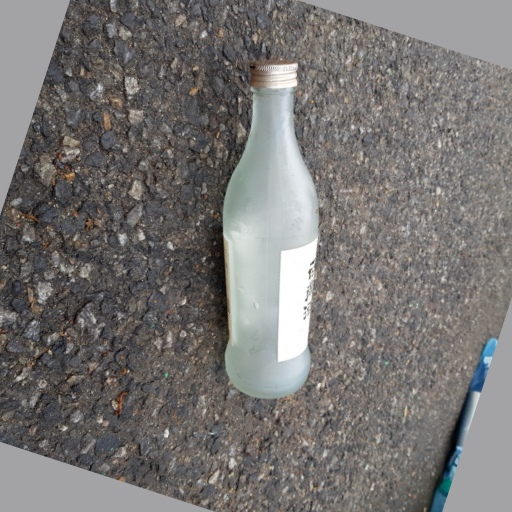Glass_0: (212, 59, 326, 399)
